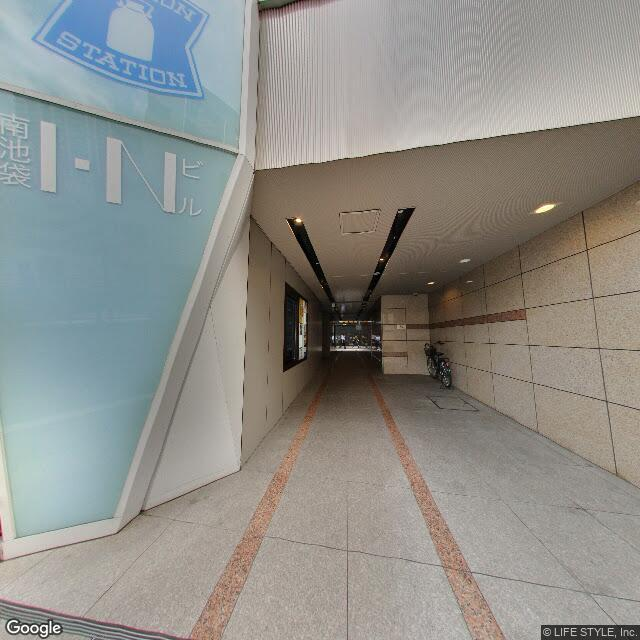lawson: (33, 1, 209, 112)
